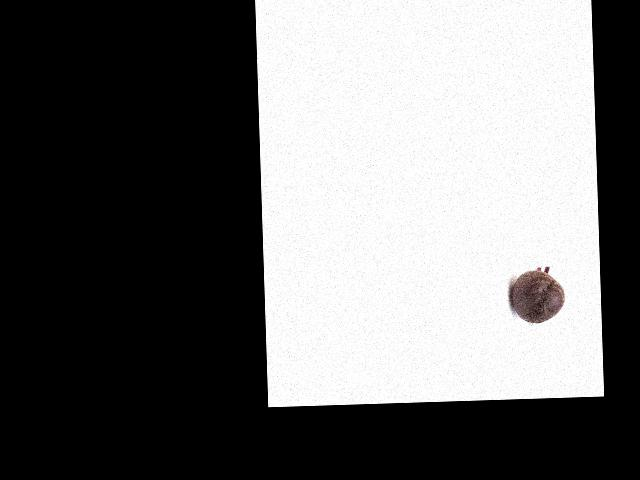beet: (509, 267, 565, 324)
